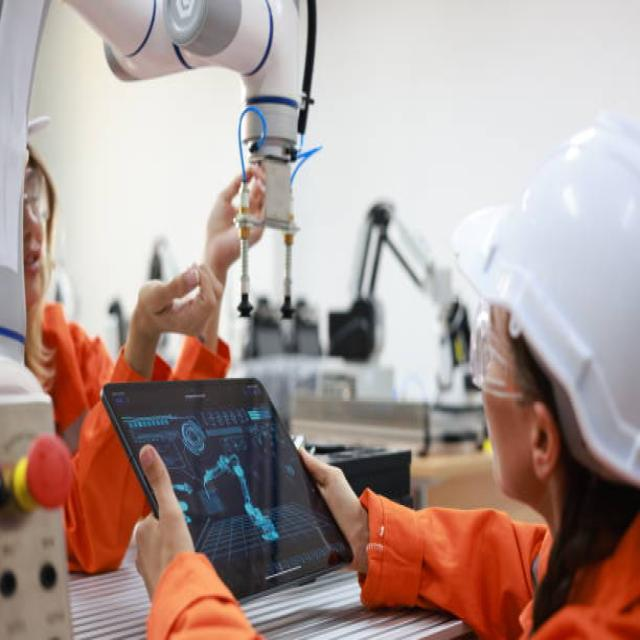Robotic-arm: (0, 0, 314, 404)
